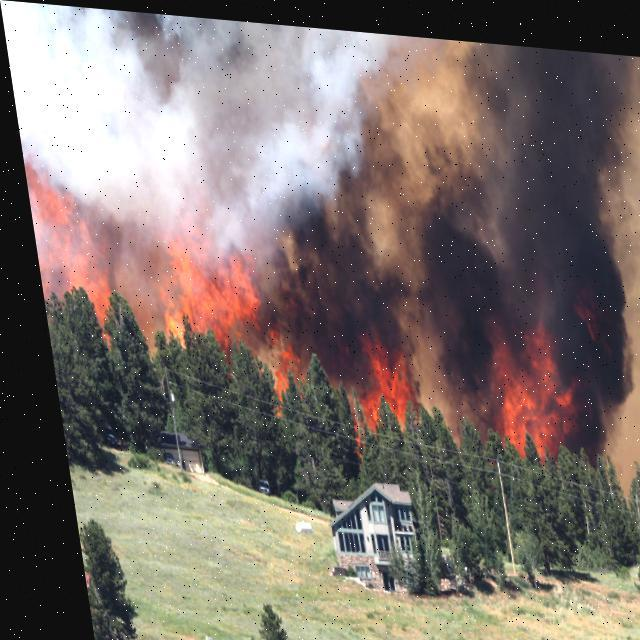Fire: (19, 154, 425, 434), (444, 294, 622, 460)
